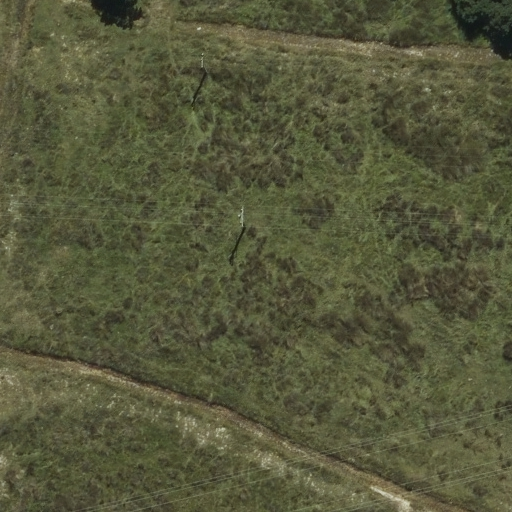DT: (234, 204, 251, 231), (195, 49, 211, 73)
